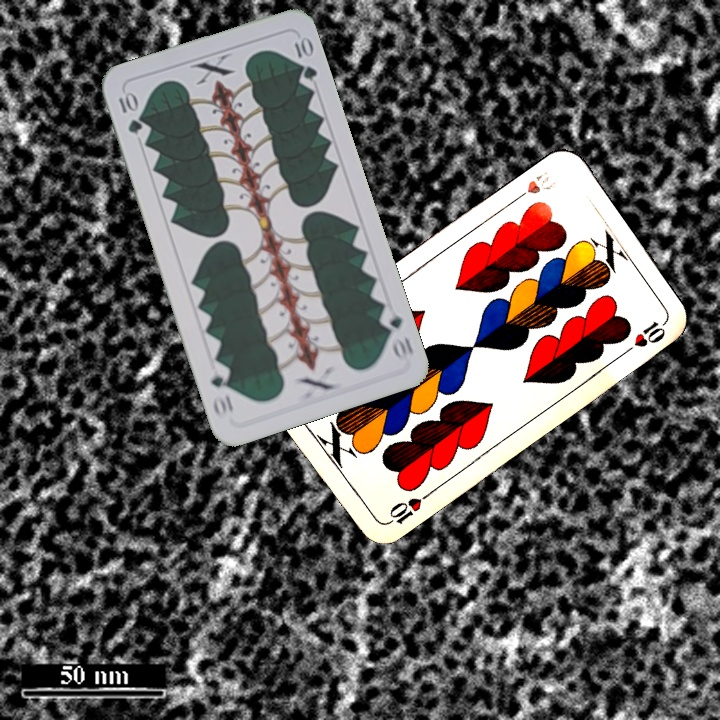G10: (376, 307, 416, 362), (114, 88, 145, 137)
H10: (381, 488, 433, 528), (509, 168, 558, 205)
